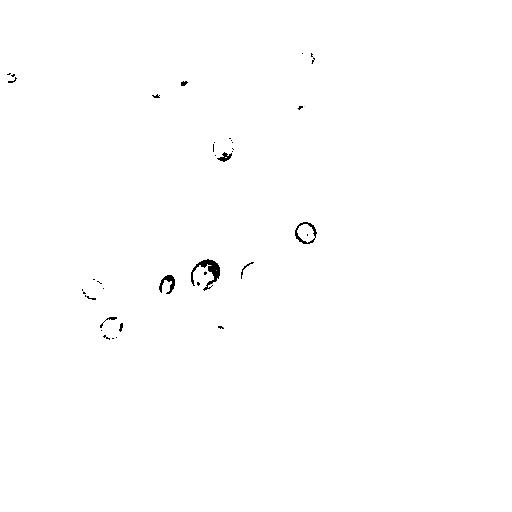micro-algae: (32, 51, 78, 98), (477, 360, 512, 409), (285, 93, 320, 129), (190, 258, 222, 291), (78, 276, 106, 300), (240, 260, 267, 284), (212, 133, 234, 162), (98, 316, 124, 340), (295, 220, 317, 247), (296, 48, 317, 70), (157, 274, 177, 297), (177, 75, 194, 90), (2, 71, 16, 83)
